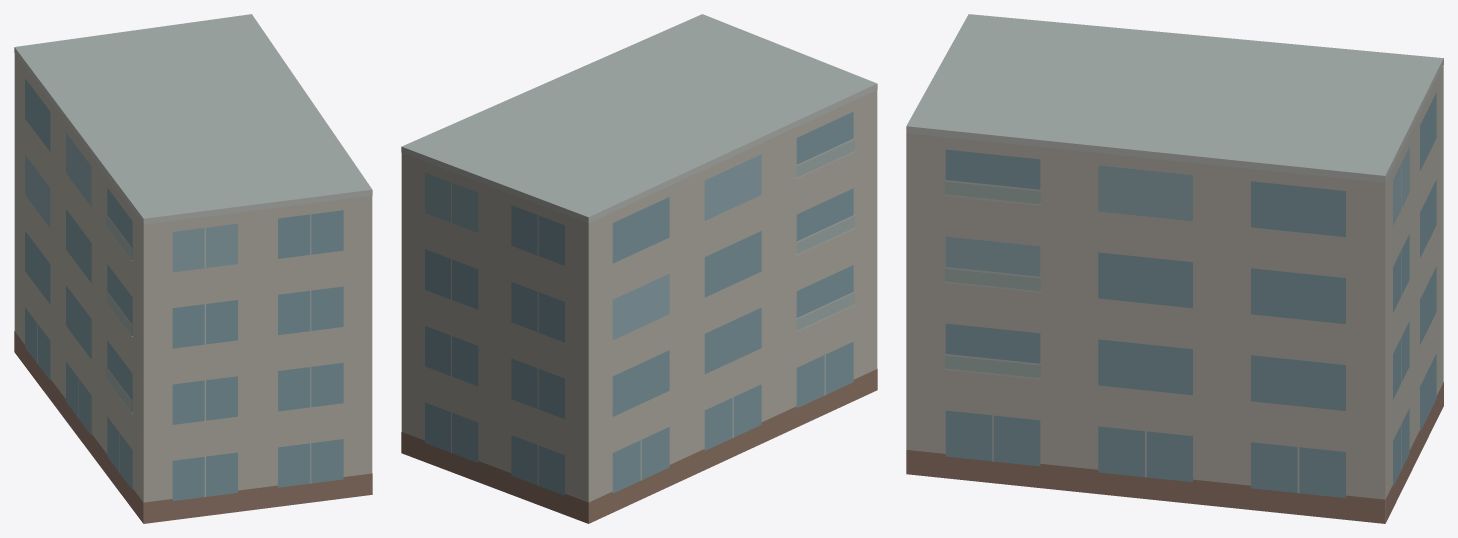
File: survey-upis-32805340.glb
3 renders of one model, left to right at view 1: azimuth 30°, elevation 25°; view 2: azimuth 150°, elevation 25°; view 3: azimuth 270°, elevation 25°, orthographic. The views are drawn at different scales.
Visible parts, largest first — view 1: survey-upis-32805340.tmp; view 2: survey-upis-32805340.tmp; view 3: survey-upis-32805340.tmp.
Part boxes in pixels (x1,y1,x2,y2): survey-upis-32805340.tmp: (14, 14, 372, 523); survey-upis-32805340.tmp: (401, 14, 877, 523); survey-upis-32805340.tmp: (906, 14, 1443, 523).
Size of the model in its own units: 12.49 by 12.5 by 17.51.
